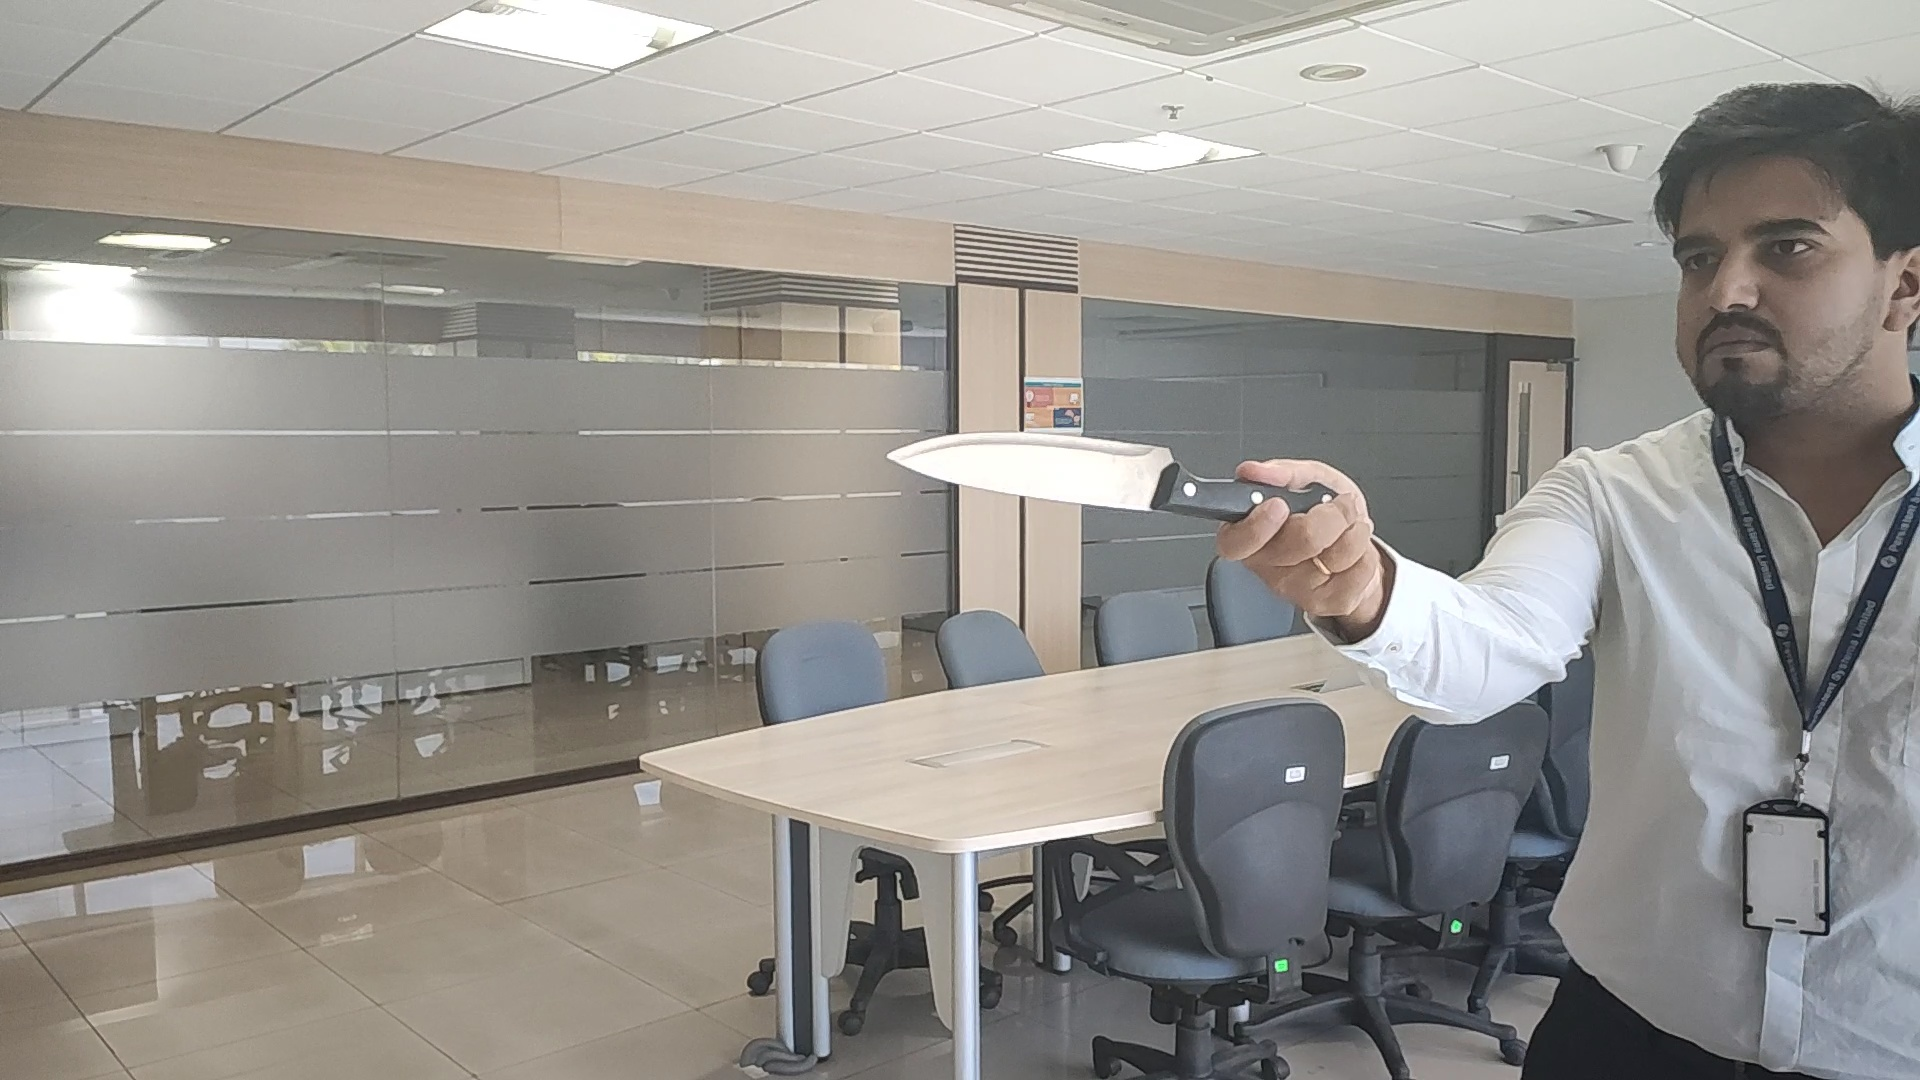knife: (887, 429, 1240, 520)
